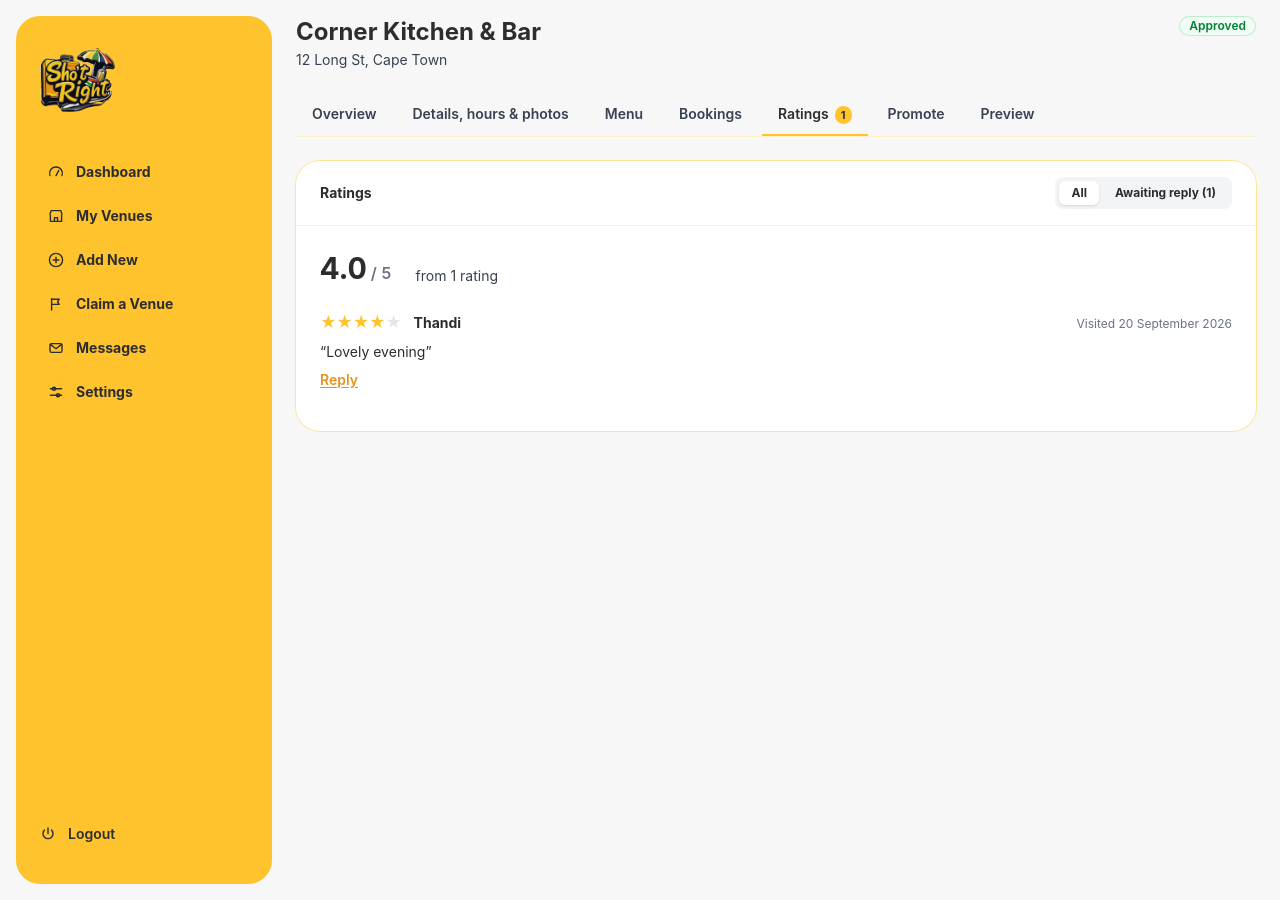
Test: replying › saves a reply and shows it under the rating
The image size is (1280, 900).
Click the button "Reply" at (339, 380), box x1=320 y1=370 x2=358 y2=390
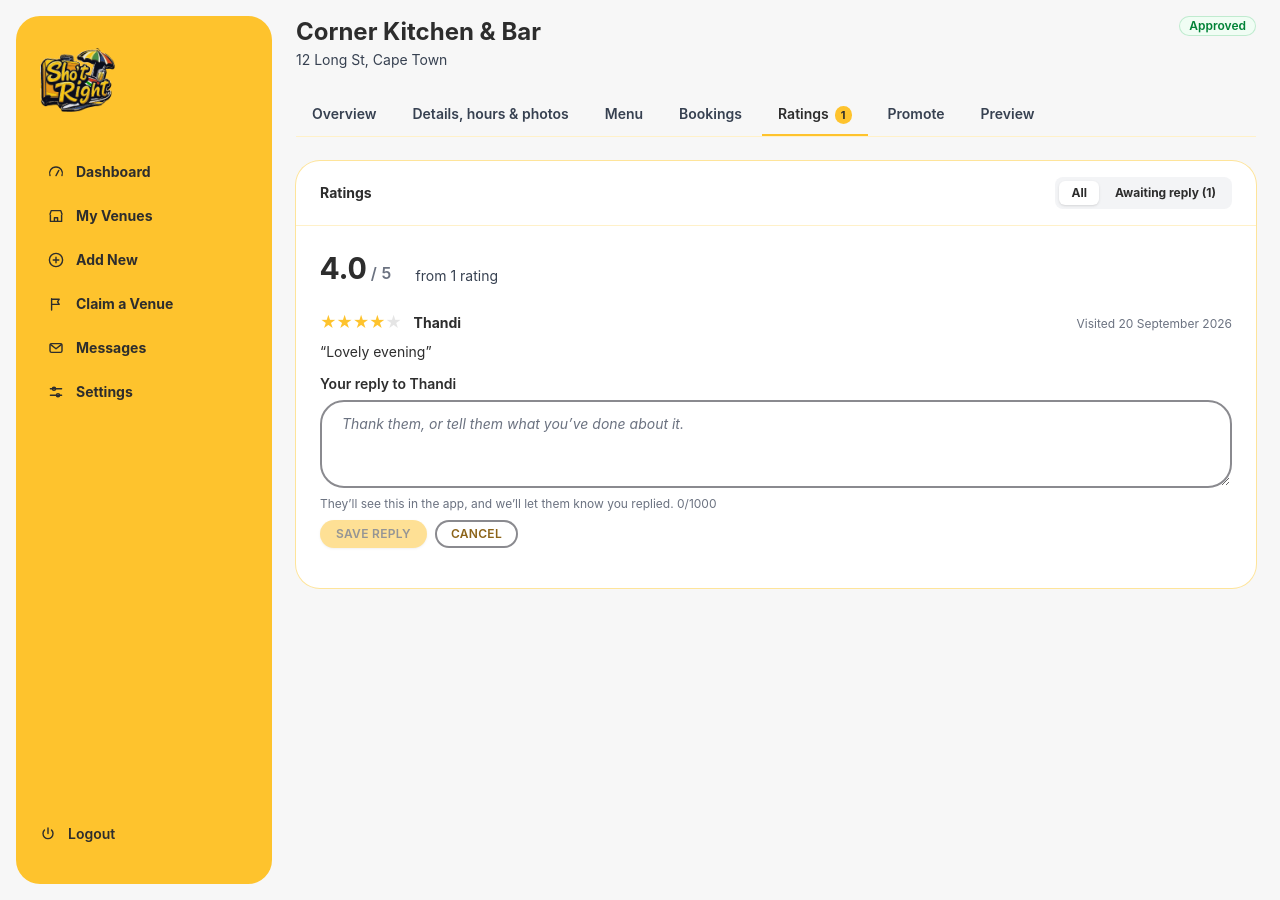
Type "  Thank you for coming!  " into the text box labelled "Your reply to Thandi" at (776, 444), box x1=320 y1=400 x2=1232 y2=488
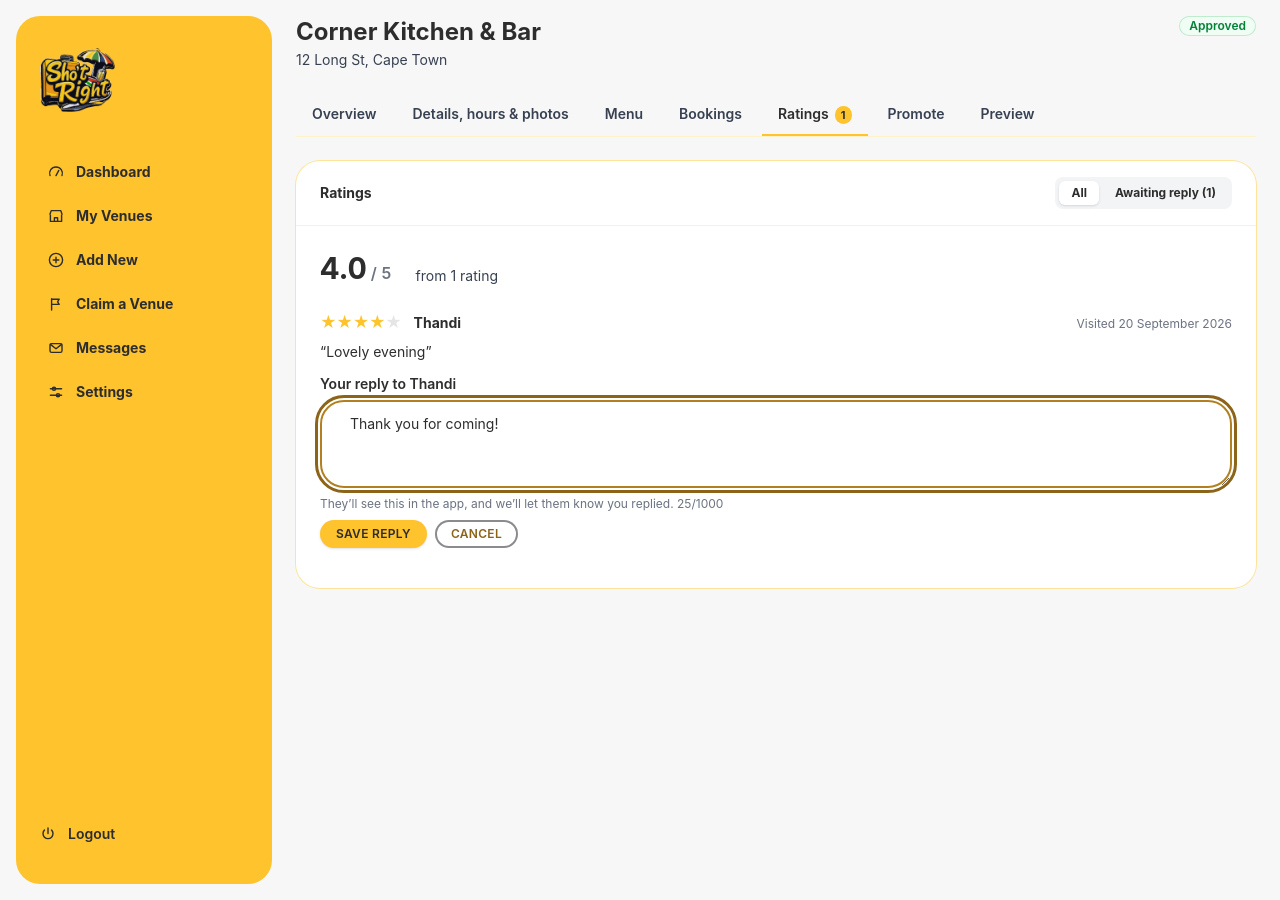
Click the button "Save reply" at (373, 534), box x1=320 y1=520 x2=427 y2=548
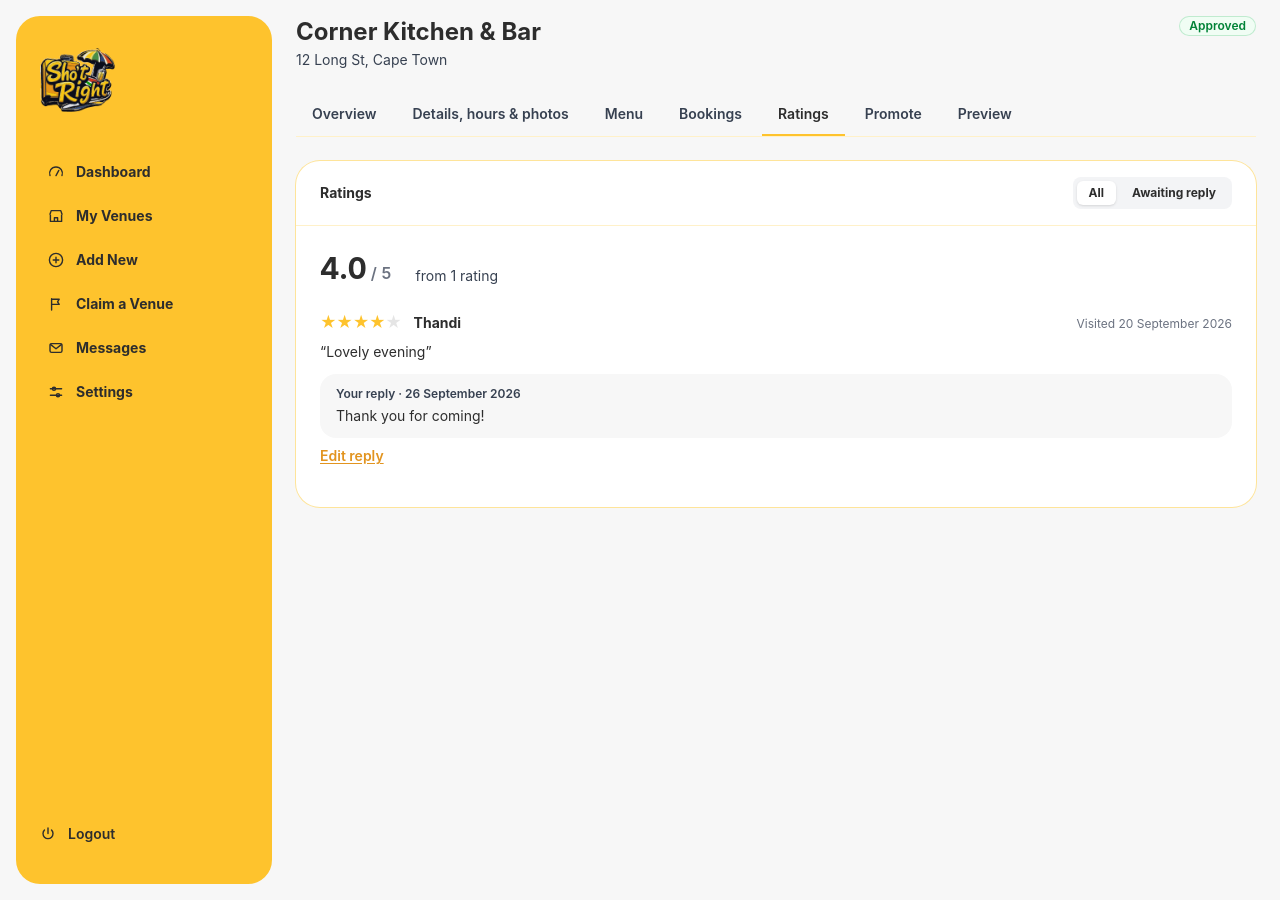
Check: the text "Thank you for coming!" is shown, box x1=336 y1=407 x2=485 y2=424
Check: the button "Edit reply" is shown, box x1=320 y1=446 x2=384 y2=466
